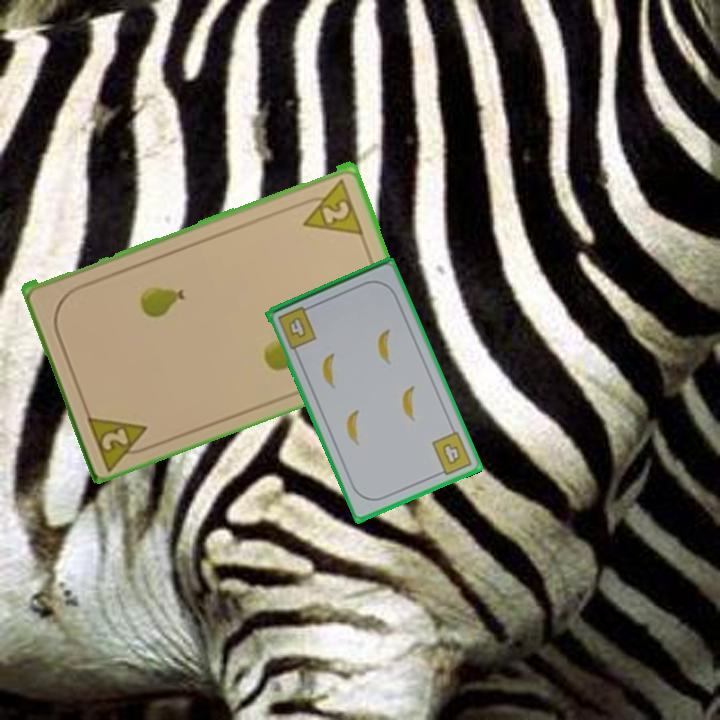2p: (82, 408, 159, 471), (294, 174, 366, 237)
4b: (428, 428, 475, 479), (274, 302, 320, 352)
